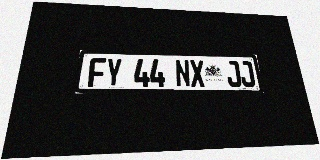4: (134, 59, 149, 87), (150, 59, 165, 87)
F: (88, 58, 106, 87)
J: (238, 61, 256, 87), (225, 61, 242, 87)
N: (175, 59, 191, 87)
X: (189, 60, 206, 87)
Y: (105, 58, 122, 87)
